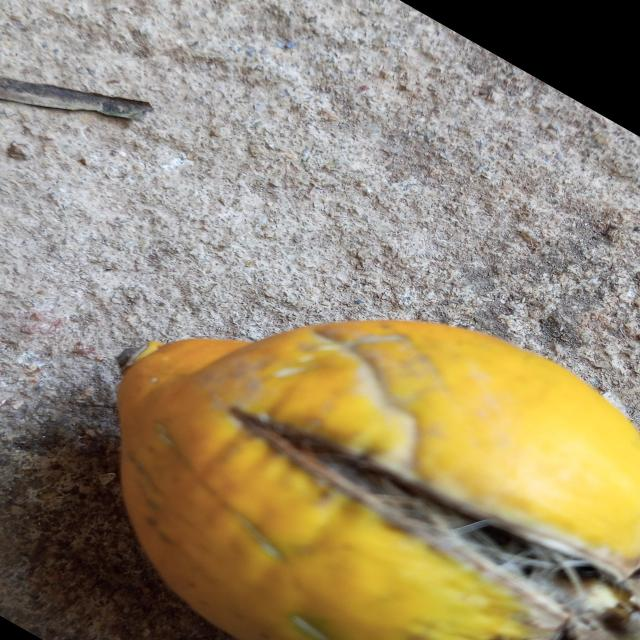damaged: (116, 319, 640, 640)
